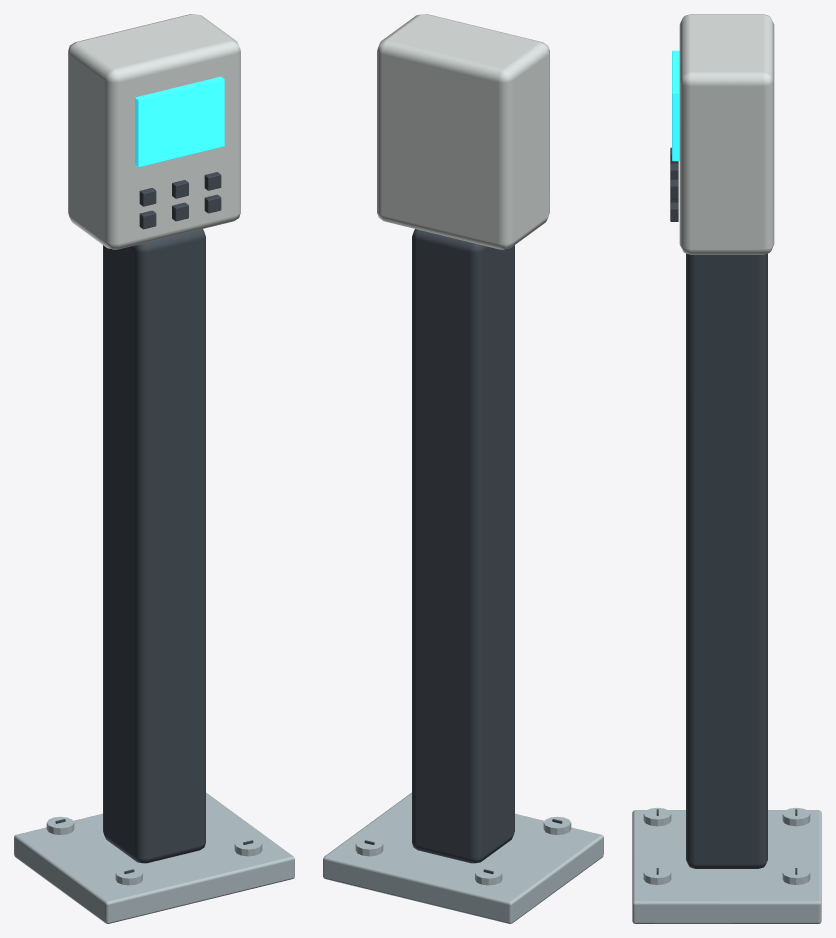
The model's file is data-centre-infiltration-kit-data-centre-infiltration--61836664__29257.glb.
3 views of the same model, side by side, from view 1: azimuth 30°, elevation 25°; view 2: azimuth 150°, elevation 25°; view 3: azimuth 270°, elevation 25° (orthographic).
Parts seen in each view (by area): view 1: data-centre-infiltration-kit-access-pedestal; view 2: data-centre-infiltration-kit-access-pedestal; view 3: data-centre-infiltration-kit-access-pedestal.
Boxes of the visible parts, box(x1,y1,x2,y2) form: data-centre-infiltration-kit-access-pedestal: box(14, 14, 294, 923); data-centre-infiltration-kit-access-pedestal: box(323, 14, 603, 923); data-centre-infiltration-kit-access-pedestal: box(632, 14, 821, 923).
Size of the model in its own units: 0.35 by 1.46 by 0.3.
